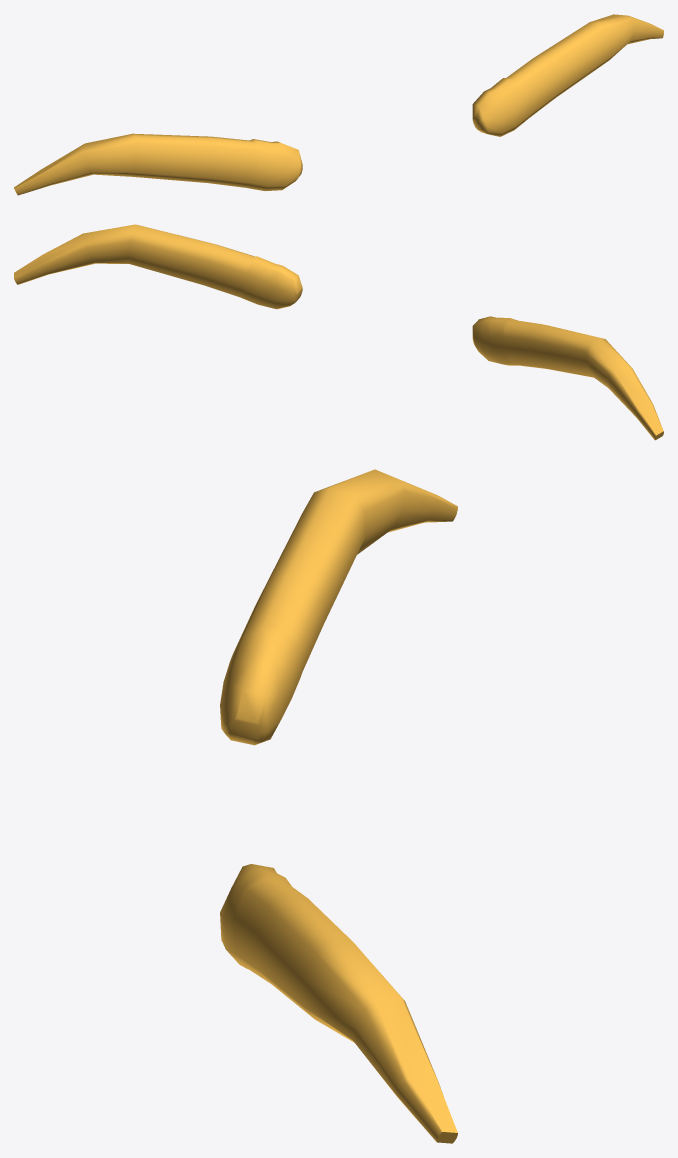
The model's file is Eyebrows_15_05.fbx.
The picture shows the model from 3 angles, top to bottom: view 1: azimuth 30°, elevation 25°; view 2: azimuth 150°, elevation 25°; view 3: azimuth 270°, elevation 25°; orthographic projection. The views are drawn at different scales.
Visible parts, largest first — view 1: Eyebrows_15_05; view 2: Eyebrows_15_05; view 3: Eyebrows_15_05.
Boxes of the visible parts, x1=… form: Eyebrows_15_05: x1=14, y1=14, x2=663, y2=195; Eyebrows_15_05: x1=14, y1=224, x2=663, y2=440; Eyebrows_15_05: x1=220, y1=469, x2=457, y2=1143.
Size of the model in its own units: 19.15 by 1.93 by 3.04.
